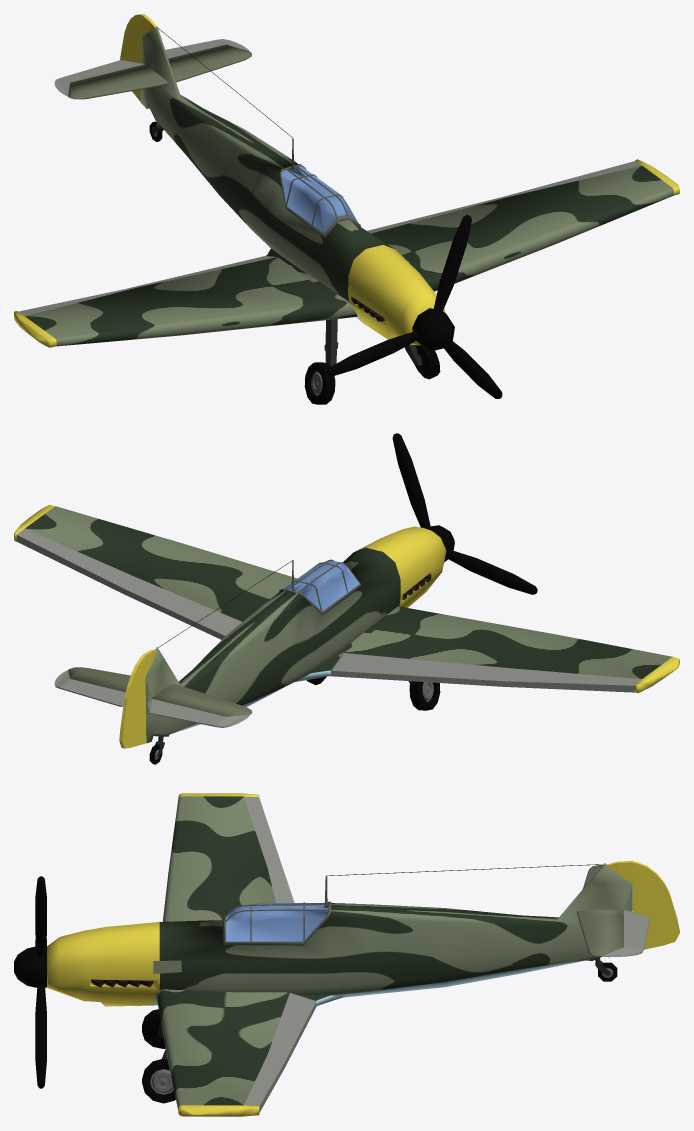
The model's file is Messerschmitt Bf 109.fbx.
3 views of the same model, one above another, from view 1: azimuth 30°, elevation 25°; view 2: azimuth 150°, elevation 25°; view 3: azimuth 270°, elevation 25° (orthographic). The views are drawn at different scales.
Visible parts, largest first — view 1: Wings, Body, Nose, Stabilizer, FrontWheels, HStabilizer, Rudder, Flipper2, Flipper1, WheelSupports; view 2: Wings, Body, Flipper1, Flipper2, Nose, Stabilizer, HStabilizer, Rudder, FrontWheels; view 3: Body, Wings, Nose, Rudder, Flipper1, Flipper2, Stabilizer, FrontWheels, HStabilizer, CockpitCage.
Boxes of the visible parts, x1,y1,x2,y2 form: Wings: (14,159,679,347); Body: (141,26,445,345); Nose: (327,215,502,398); Stabilizer: (68,44,252,99); FrontWheels: (304,345,440,404); HStabilizer: (54,39,249,96); Rudder: (120,14,156,101); Flipper2: (18,161,641,315); Flipper1: (126,197,507,288); WheelSupports: (324,319,422,376); Wings: (14,505,679,693); Body: (145,526,446,743); Flipper1: (124,577,508,686); Flipper2: (16,528,641,692); Nose: (392,433,537,594); Stabilizer: (68,667,252,716); HStabilizer: (54,670,250,727); Rudder: (119,649,157,748); FrontWheels: (306,676,440,710); Body: (47,863,632,1006); Wings: (155,793,344,1116); Nose: (14,876,46,1088); Rudder: (607,860,679,949); Flipper1: (267,868,316,1067); Flipper2: (244,796,284,1112); Stabilizer: (577,865,623,956); FrontWheels: (142,1009,175,1103); HStabilizer: (600,865,650,957); CockpitCage: (225,902,328,941).
Bounding box in the file's own units: 327 × 103 × 288.
Materials: 16 (2 with a texture image).
